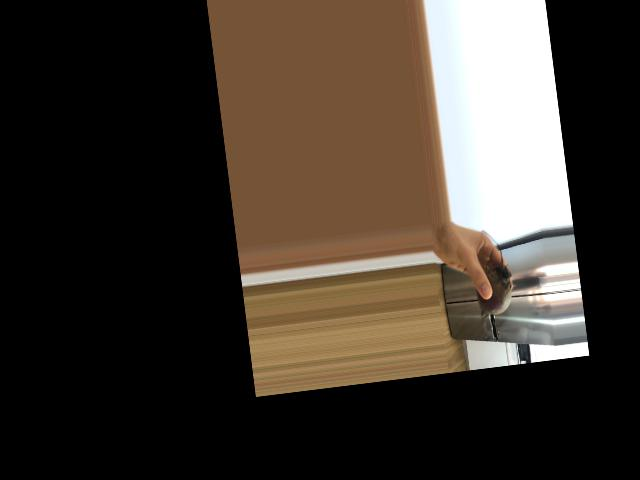beet: (469, 228, 516, 324)
